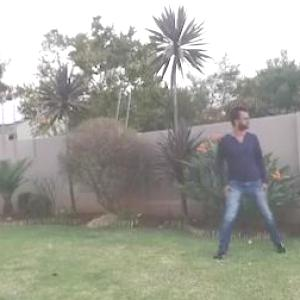follow: (218, 90, 267, 260)
